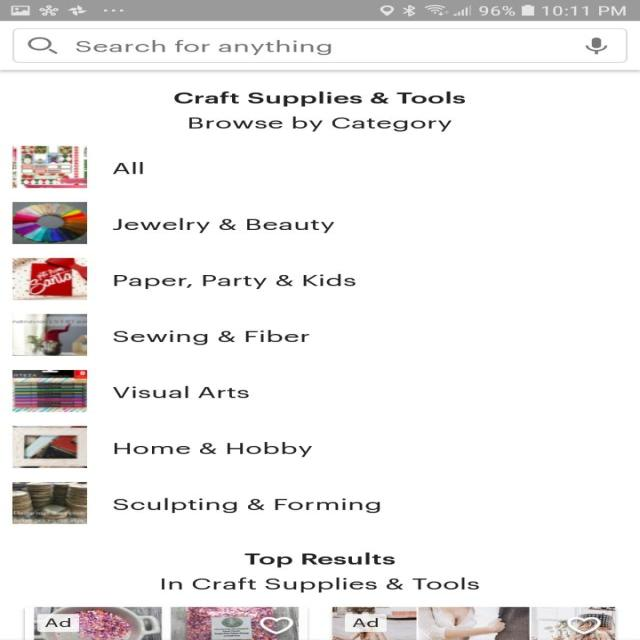EditText: (12, 28, 626, 63)
Icon: (258, 616, 294, 634), (566, 617, 600, 634), (27, 37, 58, 55), (584, 37, 607, 55)
Image: (332, 606, 616, 640), (24, 606, 308, 640), (12, 257, 88, 300), (12, 201, 88, 244), (12, 145, 88, 188), (12, 314, 88, 356), (12, 370, 88, 412), (12, 426, 88, 468), (12, 482, 88, 524)
Text: (161, 577, 479, 593), (173, 91, 464, 106), (74, 39, 330, 56), (112, 497, 380, 513), (188, 117, 452, 132), (112, 273, 356, 289), (112, 217, 334, 233), (114, 441, 312, 457), (112, 329, 310, 345), (243, 552, 394, 568), (112, 385, 249, 398), (112, 162, 143, 174)
TextButton: (36, 614, 80, 632), (344, 614, 386, 632)
